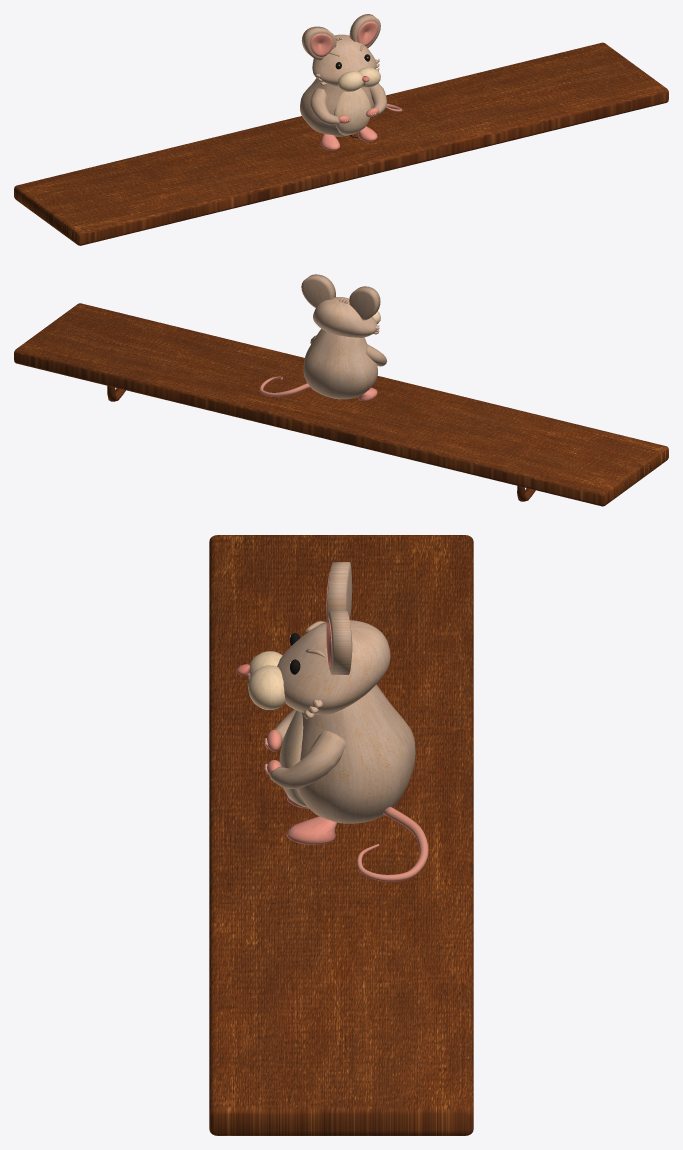
The model's file is companions.glb.
3 views of the same model, one above another, from view 1: azimuth 30°, elevation 25°; view 2: azimuth 150°, elevation 25°; view 3: azimuth 270°, elevation 25° (orthographic). The views are drawn at different scales.
Visible parts, largest first — view 1: PerchMesh, MouseHeadMesh, MouseBodyMesh; view 2: PerchMesh, MouseBodyMesh, MouseHeadMesh, MouseTailMesh; view 3: PerchMesh, MouseBodyMesh, MouseHeadMesh, MouseTailMesh.
Part boxes in pixels (x1,y1,x2,y2): PerchMesh: [14, 42, 668, 245]; MouseHeadMesh: [301, 14, 380, 91]; MouseBodyMesh: [300, 78, 386, 150]; PerchMesh: [14, 303, 668, 506]; MouseBodyMesh: [303, 329, 386, 400]; MouseHeadMesh: [301, 274, 380, 337]; MouseTailMesh: [259, 376, 309, 396]; PerchMesh: [209, 535, 473, 1135]; MouseBodyMesh: [264, 684, 415, 844]; MouseHeadMesh: [247, 562, 390, 718]; MouseTailMesh: [357, 806, 428, 881].
Size of the model in its own units: 1.24 by 0.3058 by 0.24.
2 materials, 1 textured.
